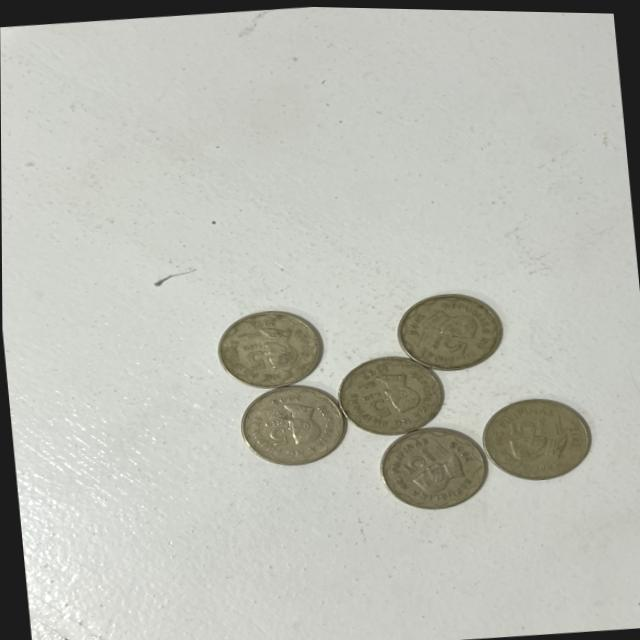5_Old_Front: (421, 325, 472, 364), (355, 386, 400, 424), (503, 409, 554, 440), (236, 334, 275, 372), (392, 442, 438, 474), (254, 414, 294, 449)
